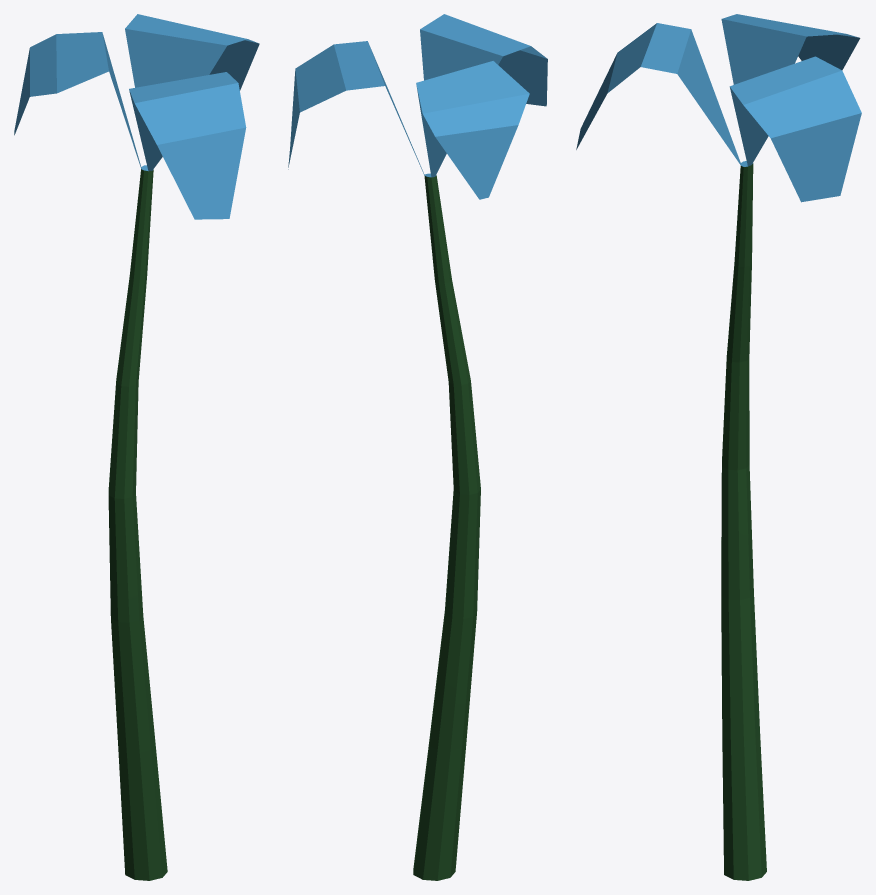
File: Plant_3d.fbx
3 views of the same model, side by side, from view 1: azimuth 30°, elevation 25°; view 2: azimuth 150°, elevation 25°; view 3: azimuth 270°, elevation 25° (orthographic).
Parts seen in each view (by area): view 1: Circle; view 2: Circle; view 3: Circle.
Boxes of the visible parts, <box> form: Circle: <box>14,14,259,880</box>; Circle: <box>288,14,547,880</box>; Circle: <box>576,14,861,880</box>.
Size of the model in its own units: 22.62 by 77.99 by 24.37.
